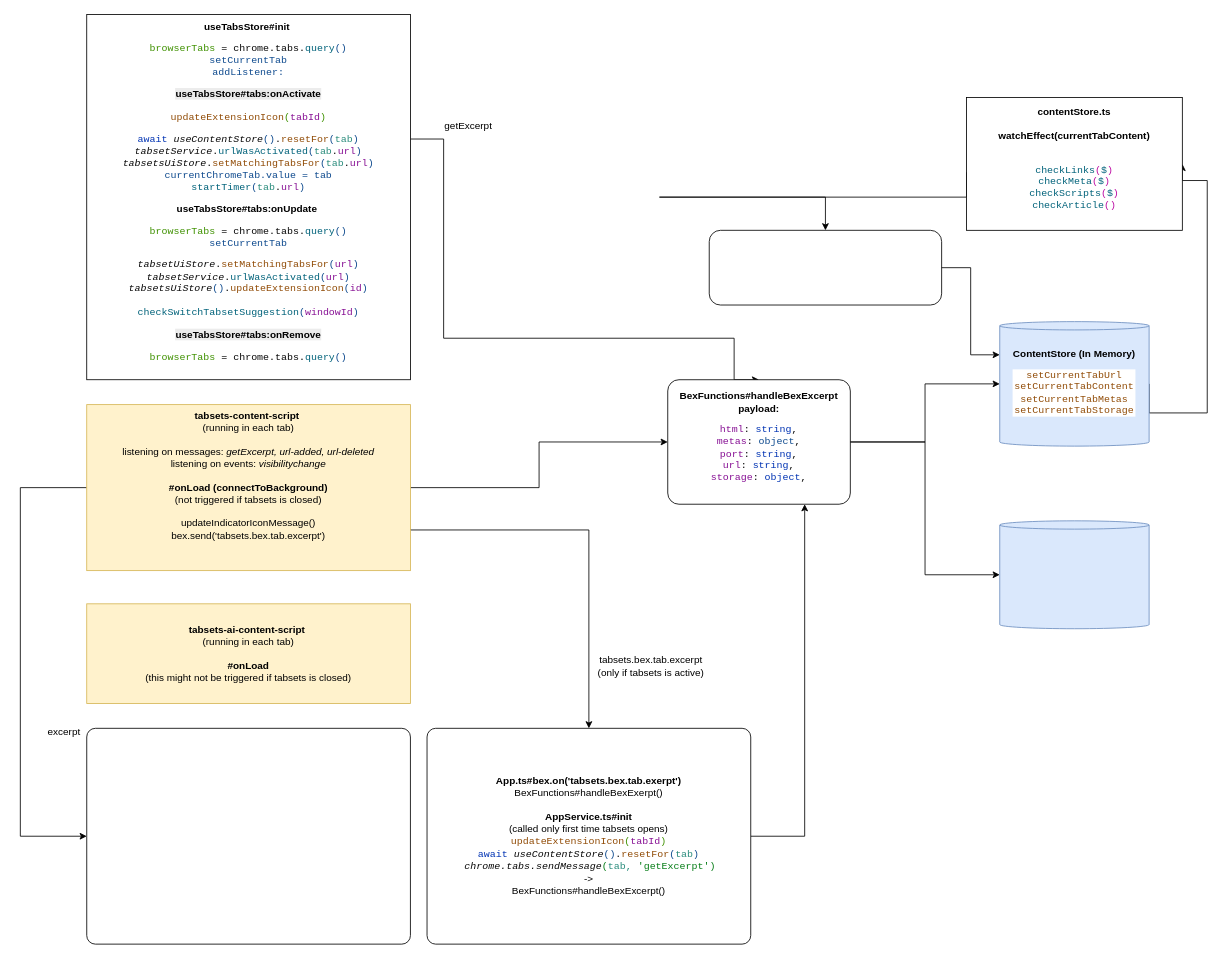
This 1228x959 diagram has some shape labels left out. Here are the shapes that lost their labels. From the top down, the centre of each, then its label:
At pixel 825 267: "currentTabArticle: set if title ex. articleSnapshot = = currentTabArticle".
At pixel 1074 574: "Content IndexedDB saveContent update existing tabReferences".
At pixel 248 835: "background".
